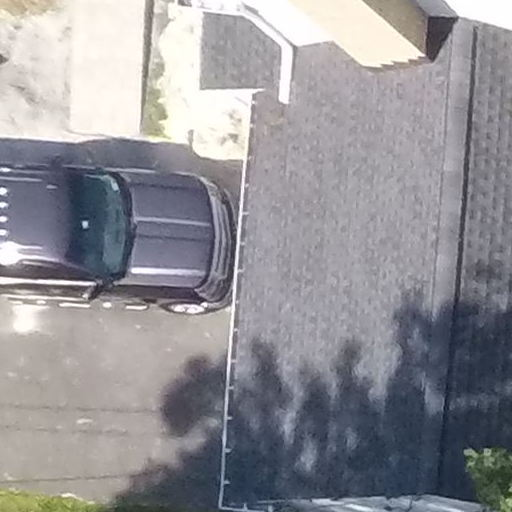car: (1, 139, 262, 328)
